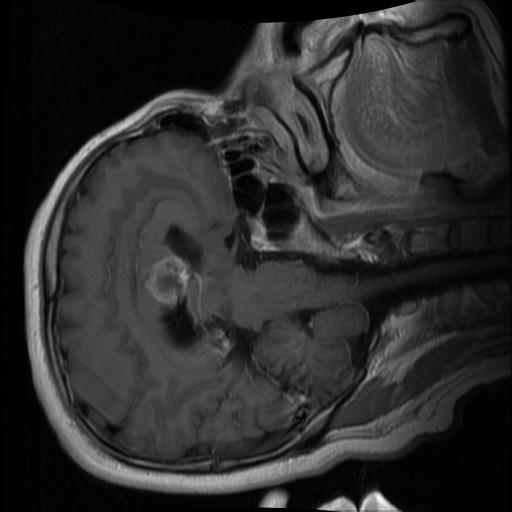glioma: (144, 254, 191, 307)
